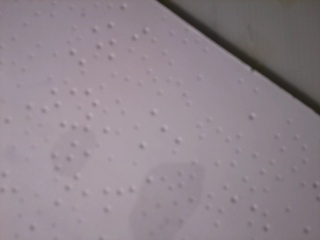Water_detected: (128, 163, 191, 236), (49, 114, 97, 174)
